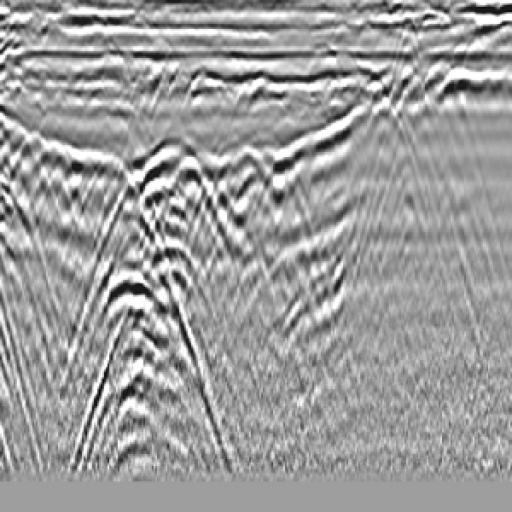metalic: (208, 70, 315, 312)
